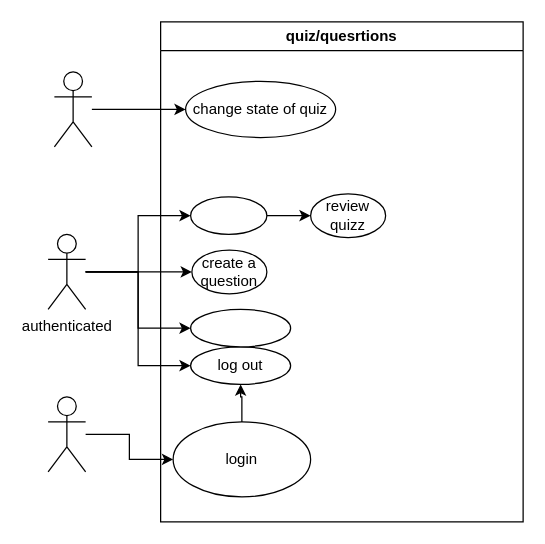
This 545x544 diagram has some shape labels left out. Each missing label, with the centre of its shape:
admin: the point at 72,109
create quiz: the point at 240,327
make quizz: the point at 228,215
visitor: the point at 66,434
